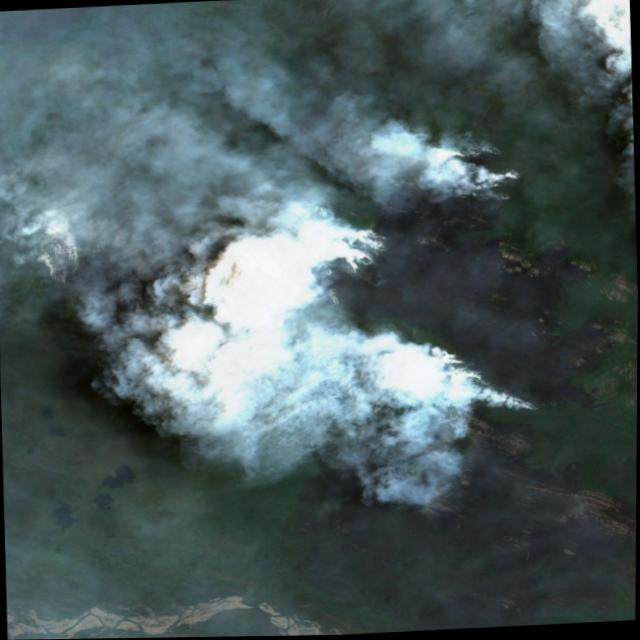fire: (262, 141, 556, 432), (27, 227, 141, 302)
